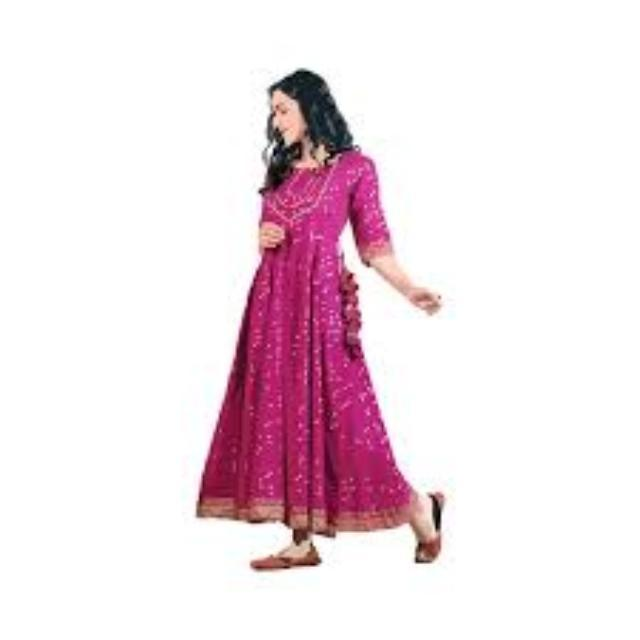person: (193, 50, 482, 640)
